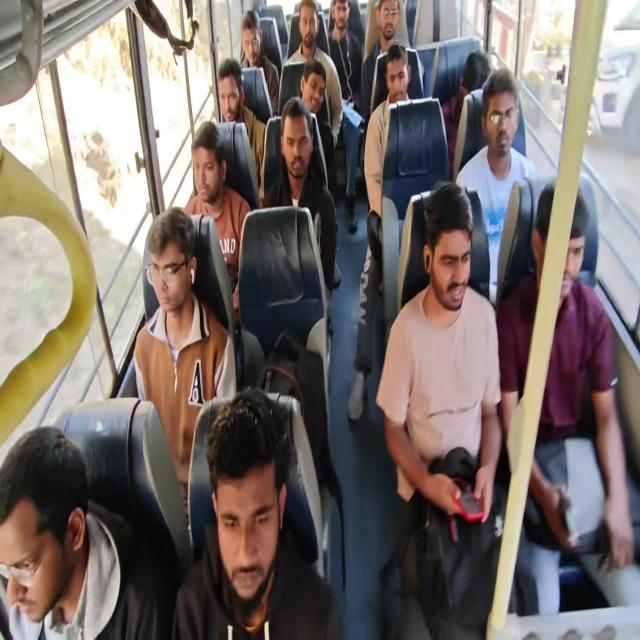person: (0, 426, 106, 628), (207, 380, 291, 618), (422, 192, 480, 324), (142, 201, 198, 327), (535, 180, 589, 294), (192, 122, 236, 212), (482, 68, 520, 159), (278, 103, 310, 199), (292, 65, 337, 122), (216, 49, 243, 123), (291, 3, 327, 58), (387, 38, 412, 104), (237, 17, 266, 64), (376, 0, 403, 44), (459, 55, 488, 90), (331, 0, 354, 36)
